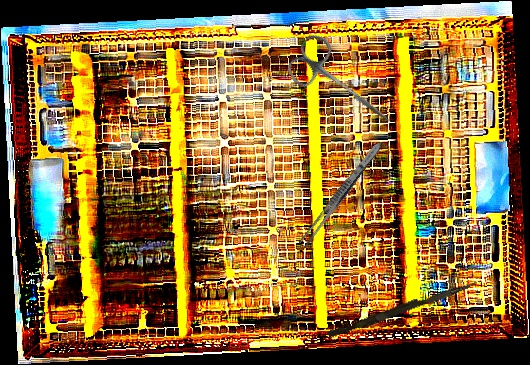Dressing Forceps: (296, 137, 386, 252)
Iris Scissors: (281, 29, 408, 142)
Pusher: (327, 275, 478, 342)
